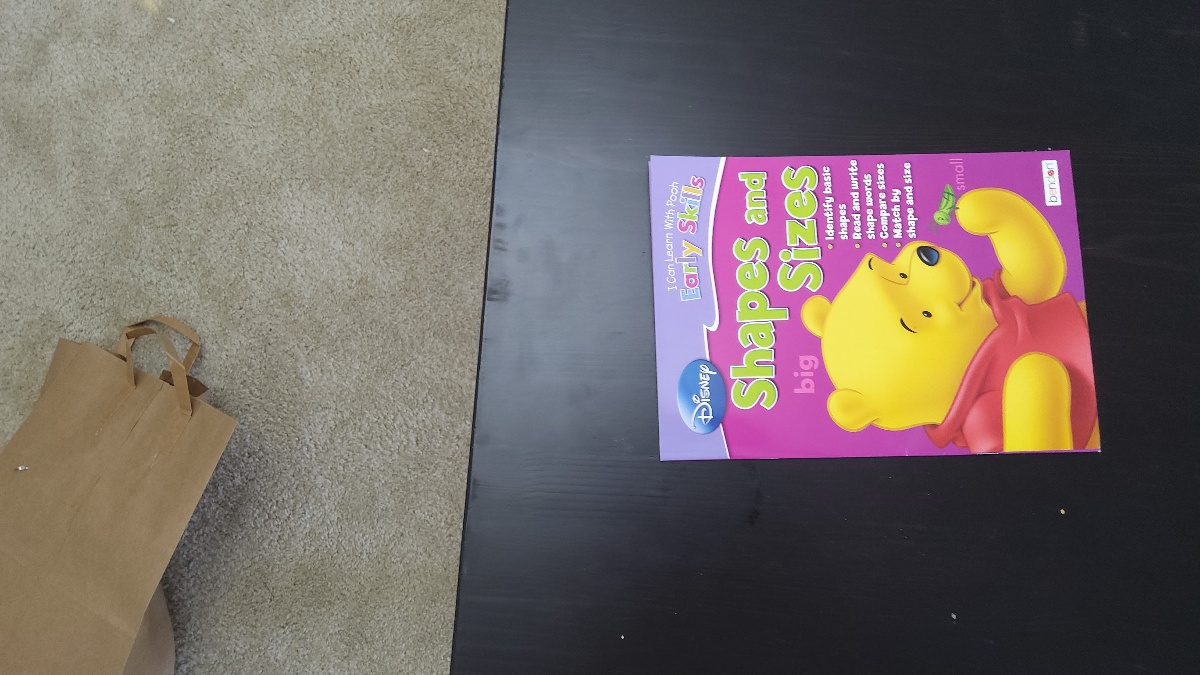book: (653, 159, 1081, 453)
